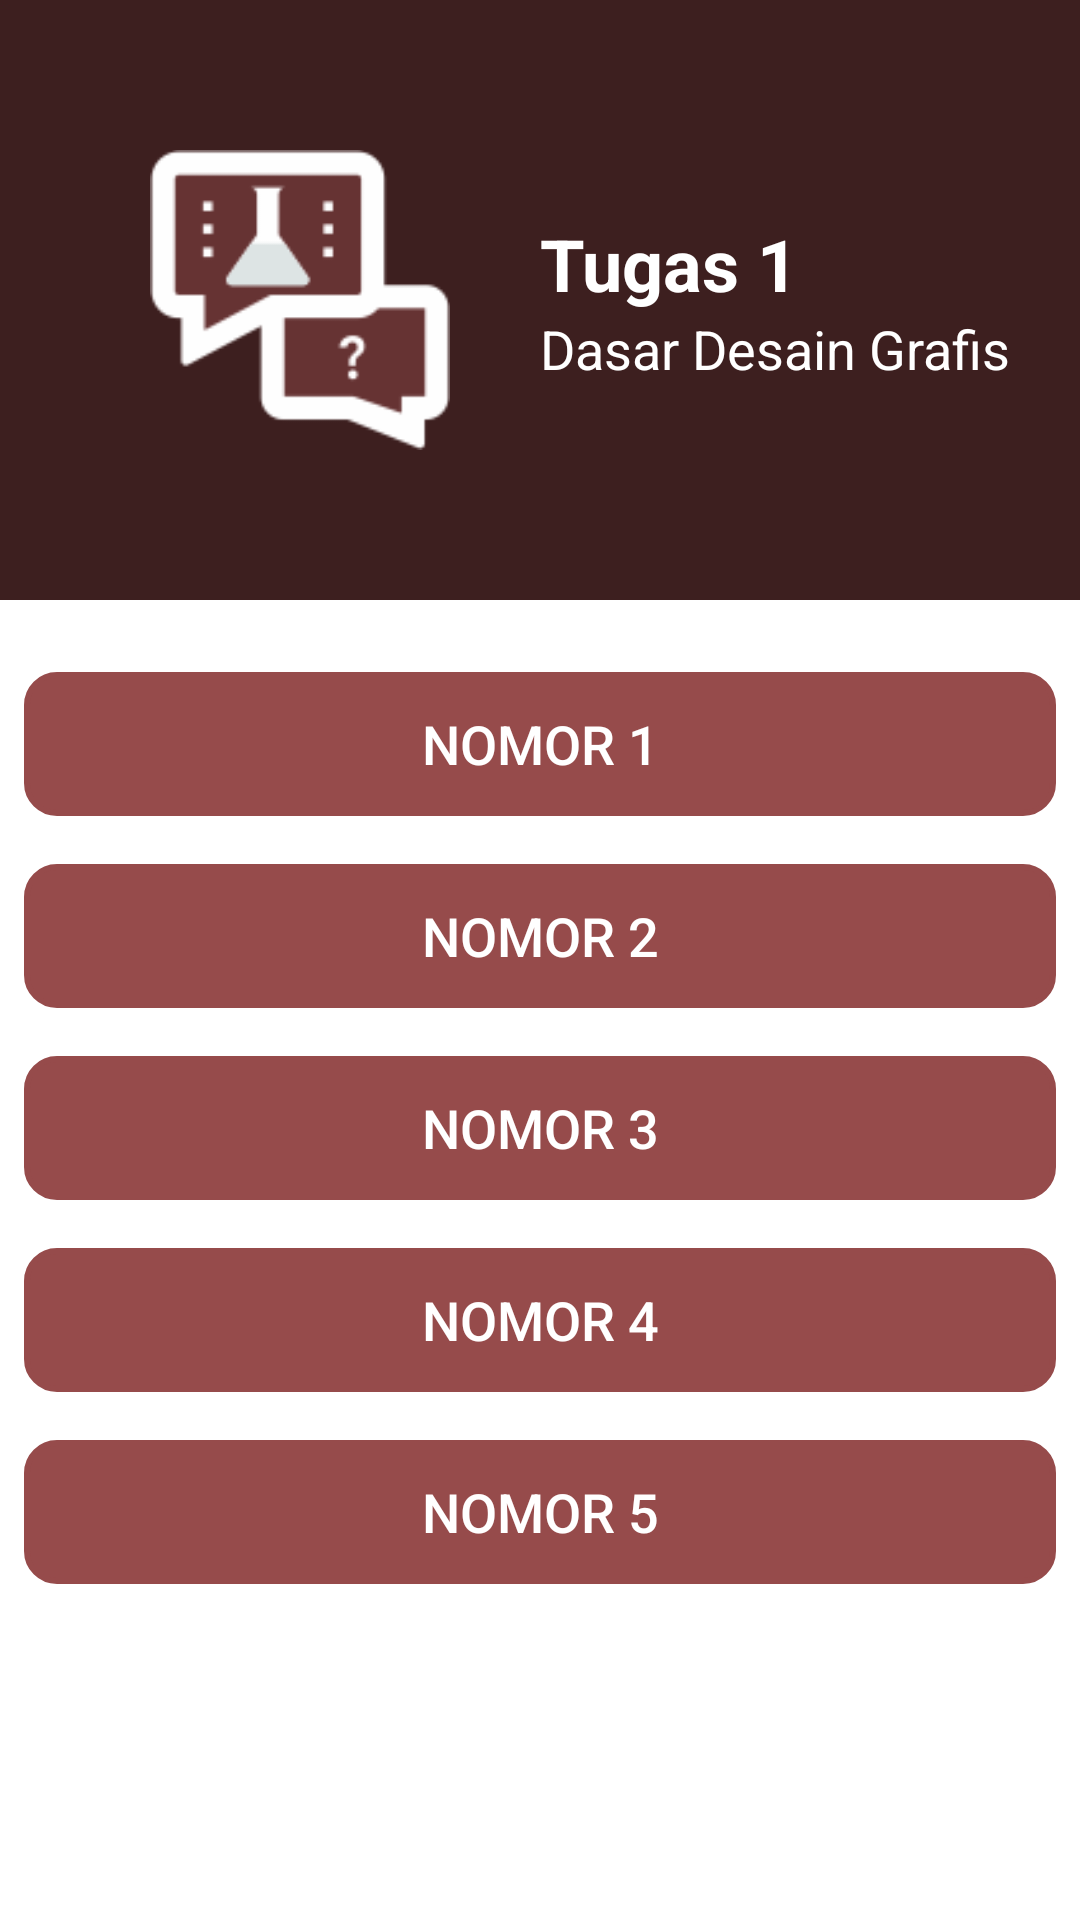

Icon bounding boxes for this 1080x1920 phone screenshot, format (x1, y1, x2, y2):
quiz thumbnail: (150, 150, 450, 450)
